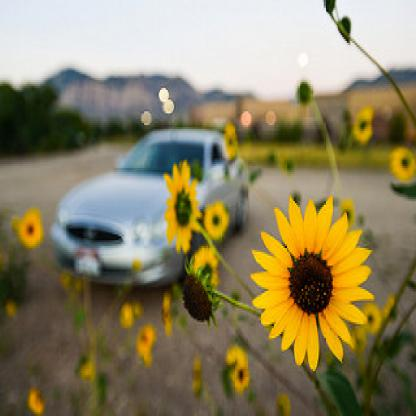SUN FLOWER: (138, 89, 416, 405)
